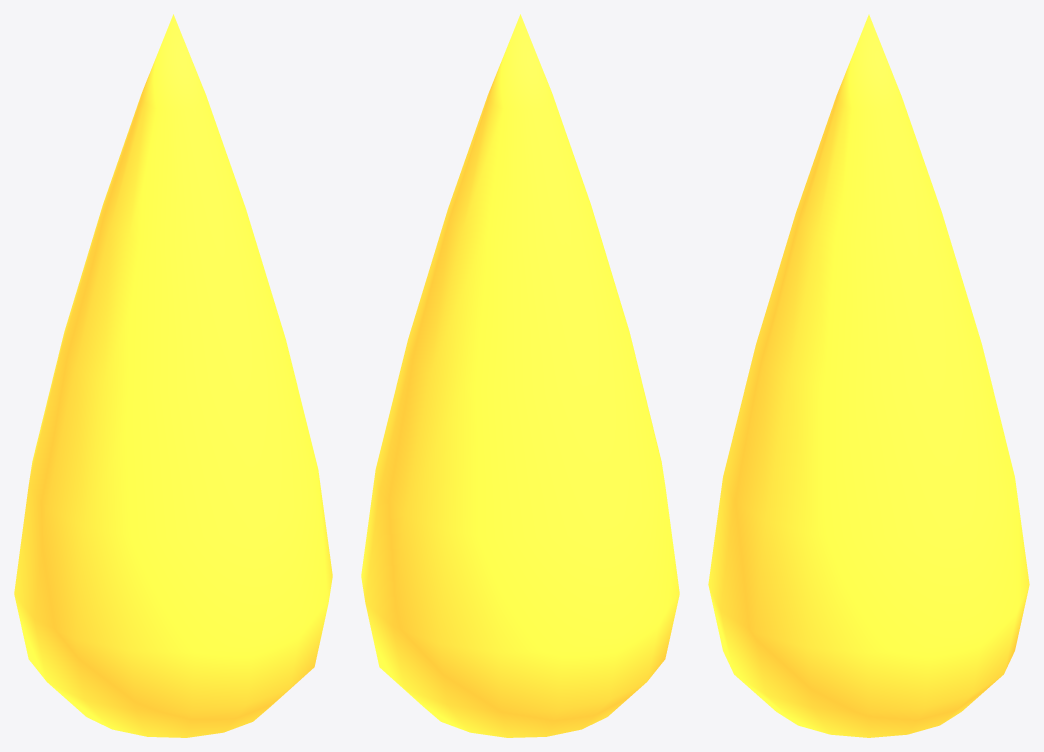
The model's file is plume.glb.
The picture shows the model from 3 angles, left to right: view 1: azimuth 30°, elevation 25°; view 2: azimuth 150°, elevation 25°; view 3: azimuth 270°, elevation 25°; orthographic projection.
Visible parts, largest first — view 1: plume; view 2: plume; view 3: plume.
Boxes of the visible parts, x1,y1,x2,y2 form: plume: (14,14,332,737); plume: (361,14,679,737); plume: (708,14,1029,737).
Size of the model in its own units: 0.176 by 0.42 by 0.176.
